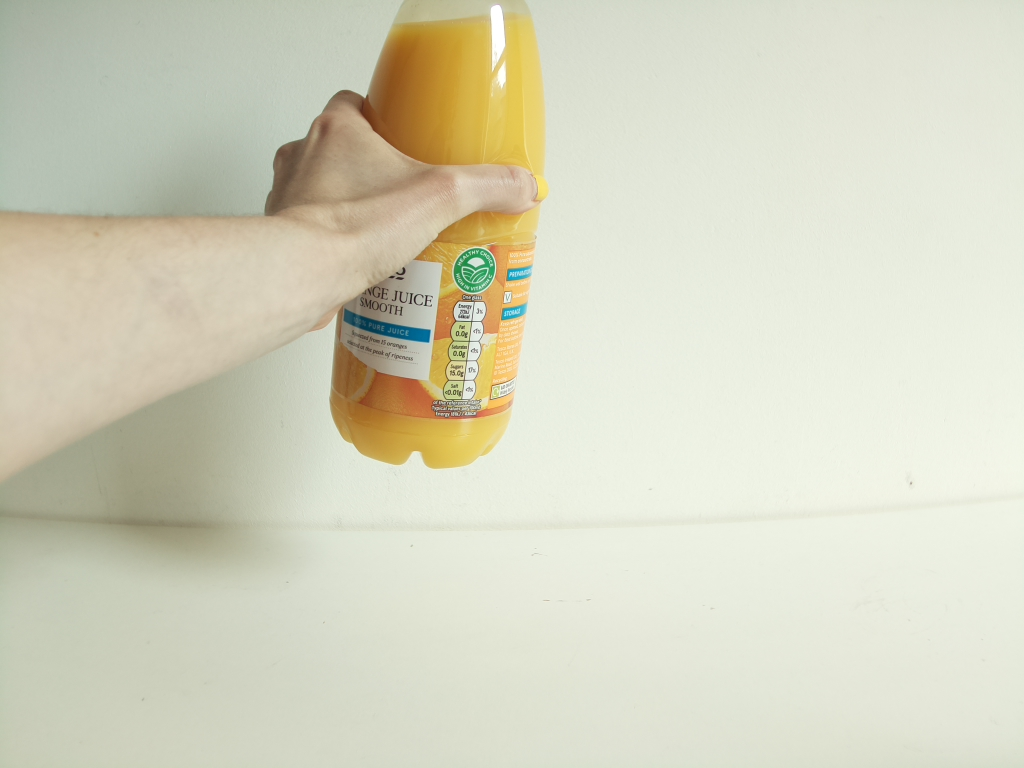juice: (329, 1, 559, 475)
